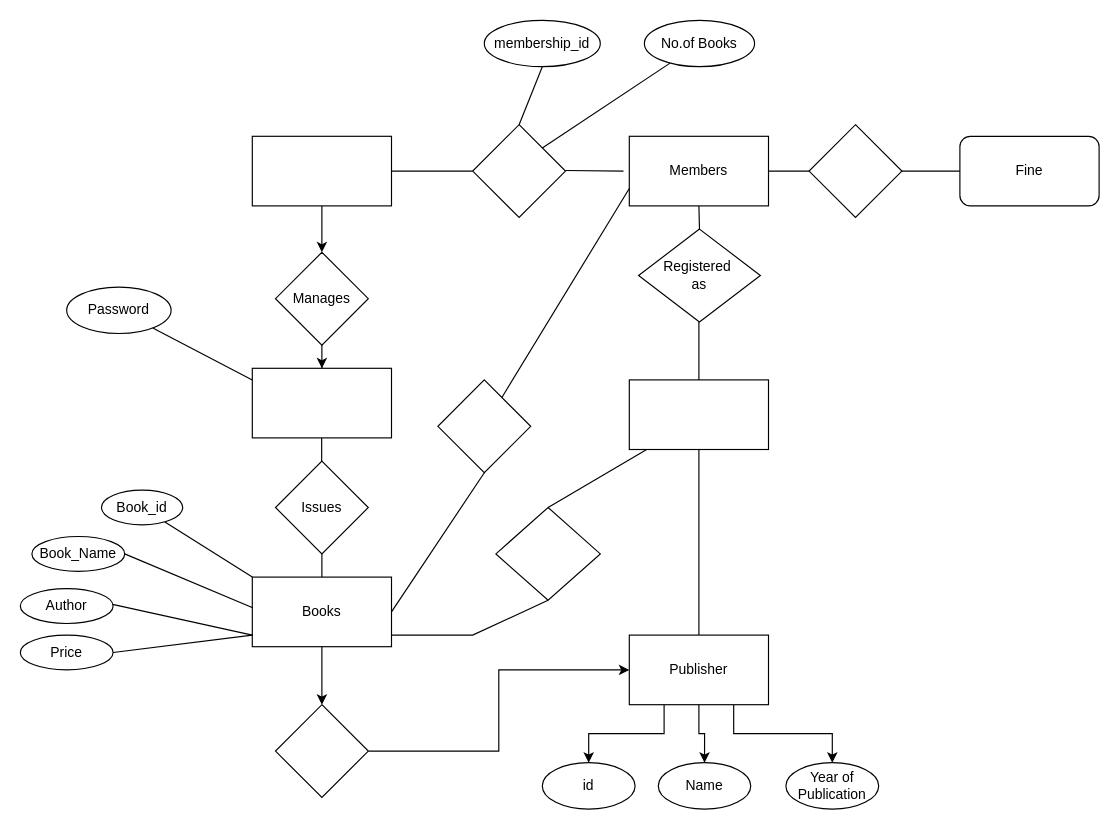
The diagram is 1119 pixels wide and 829 high, and some of its shapes have lost their labels. The centre of each missing label's shape, as x and y in pixels:
"Allows" belongs at point (519, 170).
"Borrowed By" belongs at point (484, 426).
"have" belongs at point (855, 170).
"Librarian" belongs at point (321, 402).
"Library" belongs at point (321, 170).
"Published By" belongs at point (321, 751).
"Returned By" belongs at point (547, 553).
"Students" belongs at point (698, 414).
